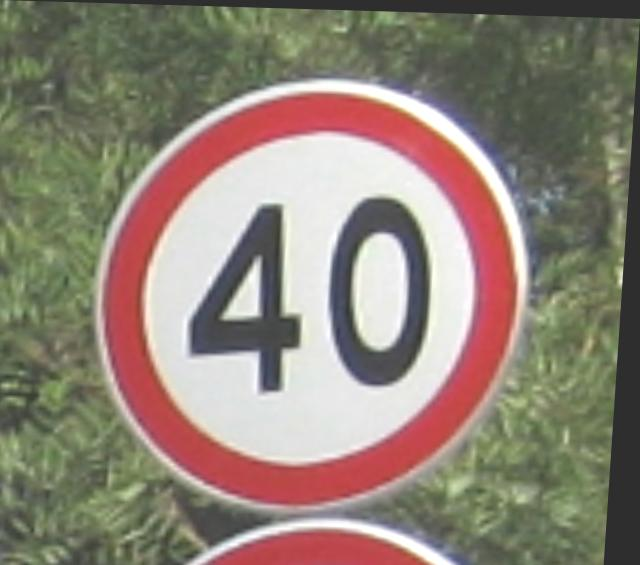limit40: (76, 59, 554, 526)
